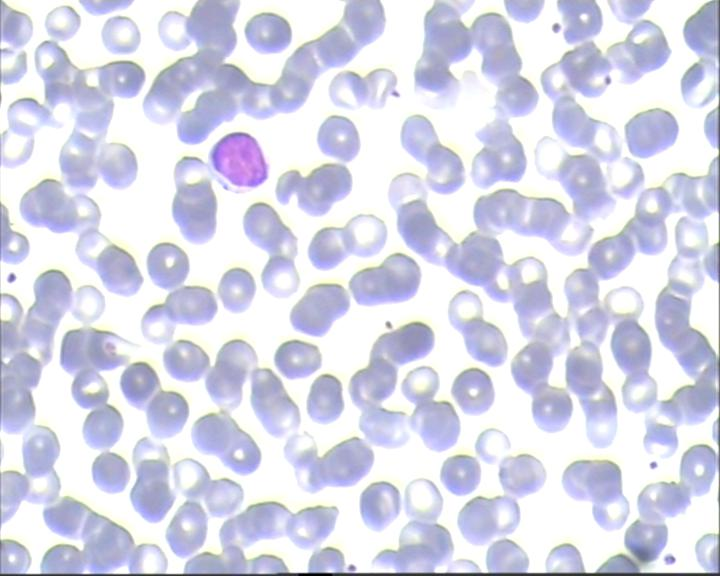lymp: (202, 128, 276, 197)
